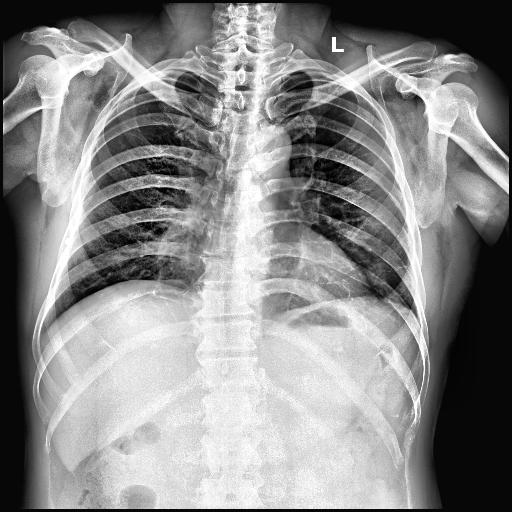0- Aortic enlargement: (248, 122, 292, 170), (248, 124, 291, 166)
7- Lung Opacity: (364, 177, 415, 307)
